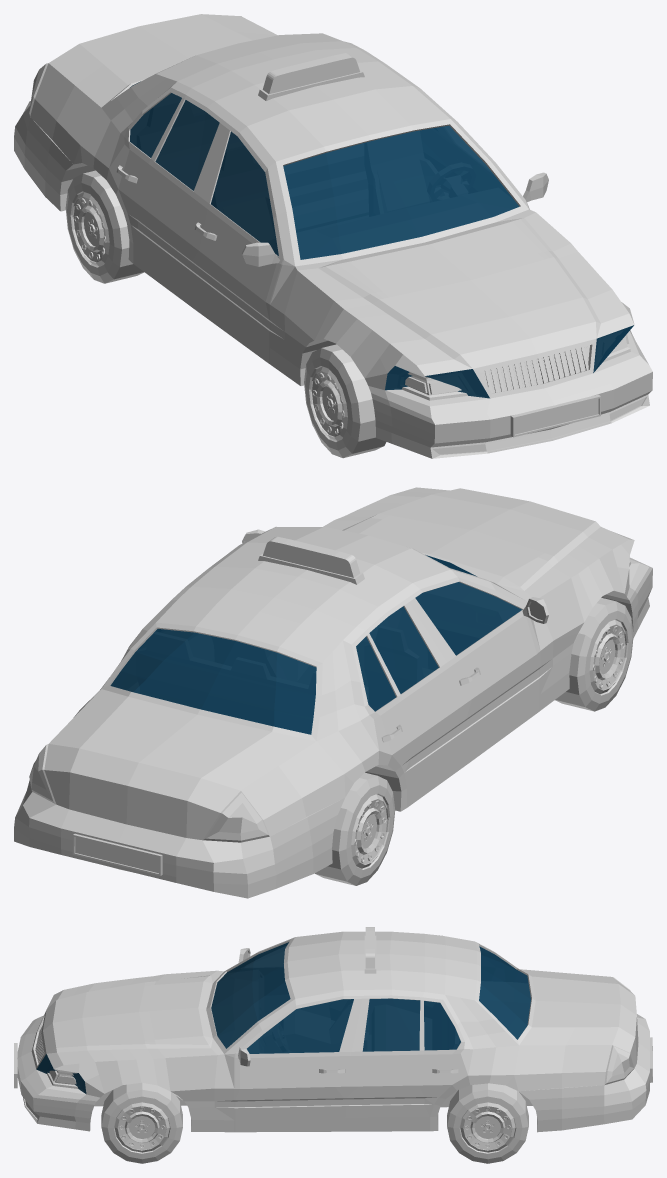
File: taxi_01_fixed_wheels.fbx
3 views of the same model, one above another, from view 1: azimuth 30°, elevation 25°; view 2: azimuth 150°, elevation 25°; view 3: azimuth 270°, elevation 25° (orthographic). The views are drawn at different scales.
Parts seen in each view (by area): view 1: taxi_01_fixed_wheels, taxi_01_glass.002; view 2: taxi_01_fixed_wheels, taxi_01_glass.002; view 3: taxi_01_fixed_wheels, taxi_01_glass.002.
Boxes of the visible parts, box(x1,y1,x2,y2) form: taxi_01_fixed_wheels: box(14, 14, 652, 458); taxi_01_glass.002: box(130, 81, 633, 398); taxi_01_fixed_wheels: box(14, 487, 652, 898); taxi_01_glass.002: box(110, 555, 521, 734); taxi_01_fixed_wheels: box(14, 927, 652, 1163); taxi_01_glass.002: box(36, 942, 530, 1093).
Size of the model in its own units: 276 by 208 by 687.
